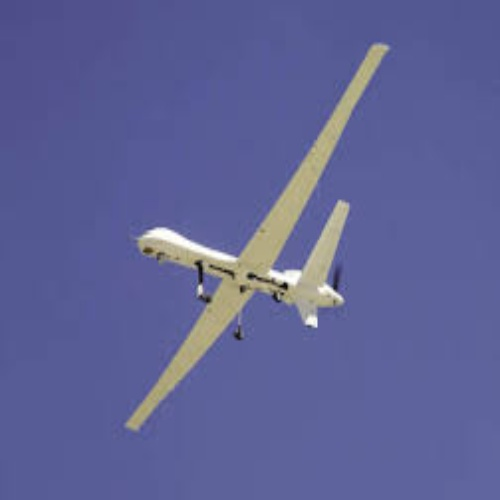uav: (124, 43, 391, 429)
